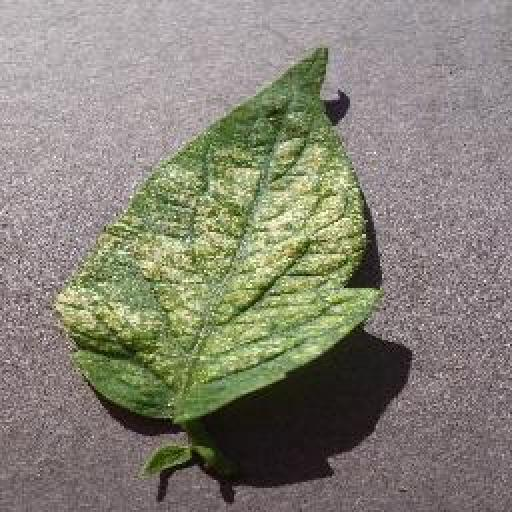disease_tomato: (58, 42, 387, 422)
